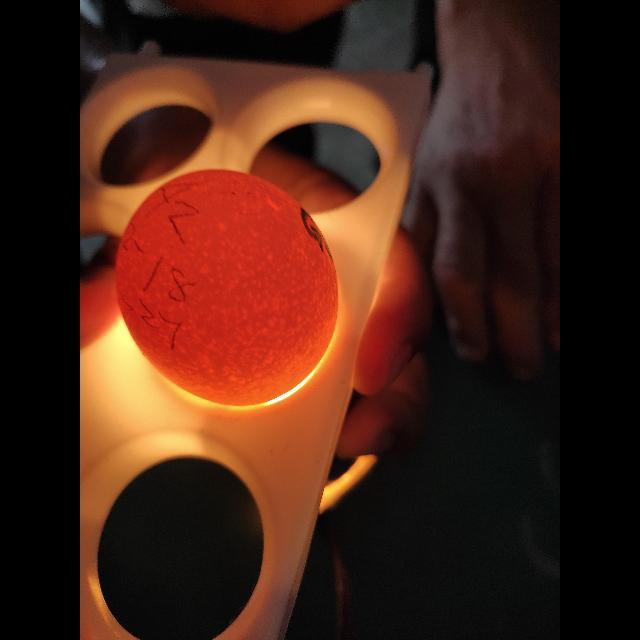Infertile: (111, 164, 346, 410)
